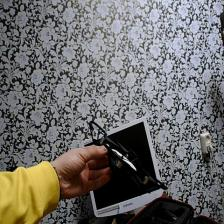drone: (79, 109, 175, 203)
